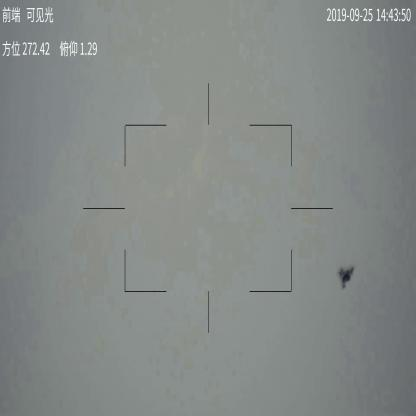uav: (334, 262, 357, 287)
